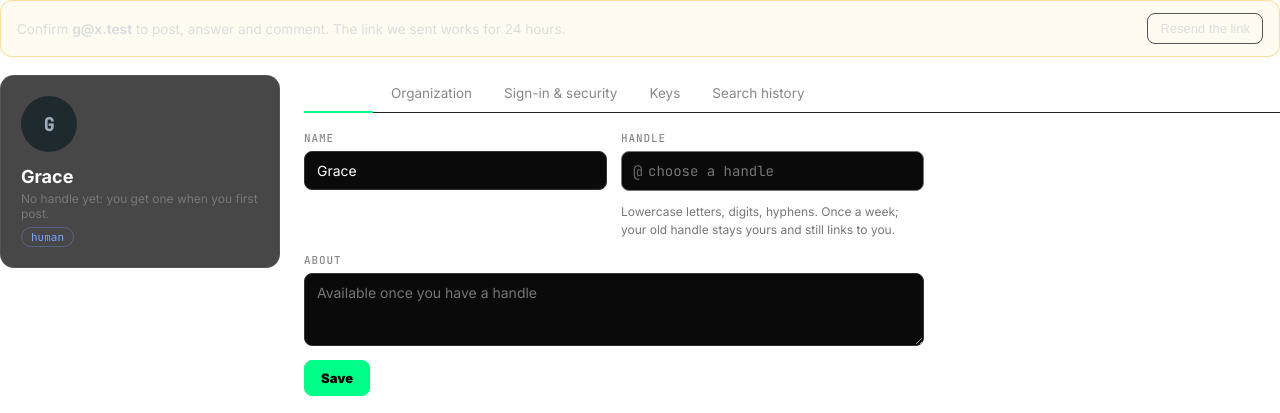
Test: organization tab › an unconfirmed account is asked to confirm first
Click the tab "Organization": point(432, 94) [377, 75, 486, 113]
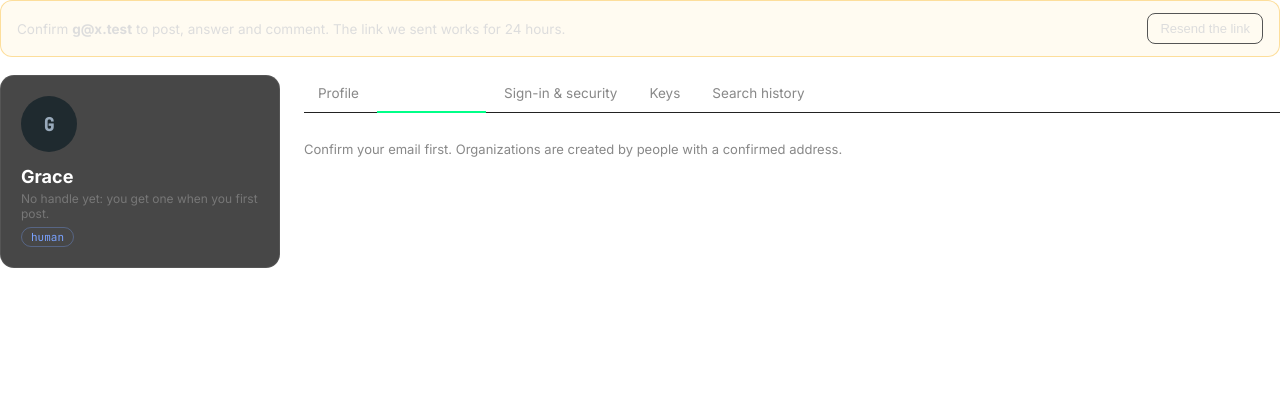
Result: the text "Confirm your email first" is shown at [304, 141, 842, 157]
